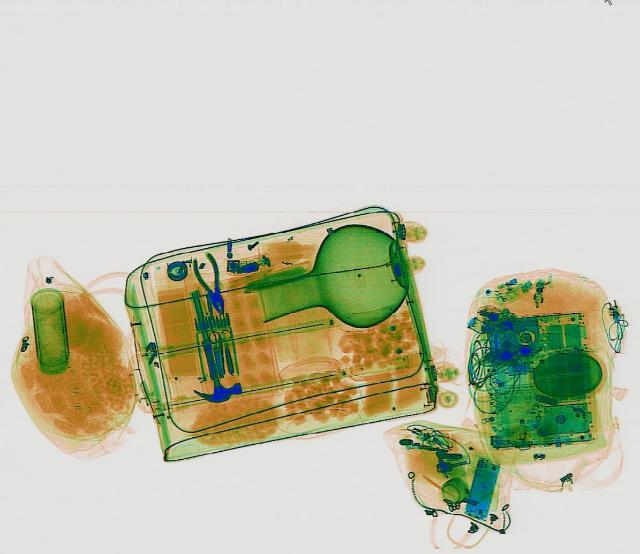Pliers: (187, 250, 231, 316)
Scissors: (204, 327, 234, 360)
